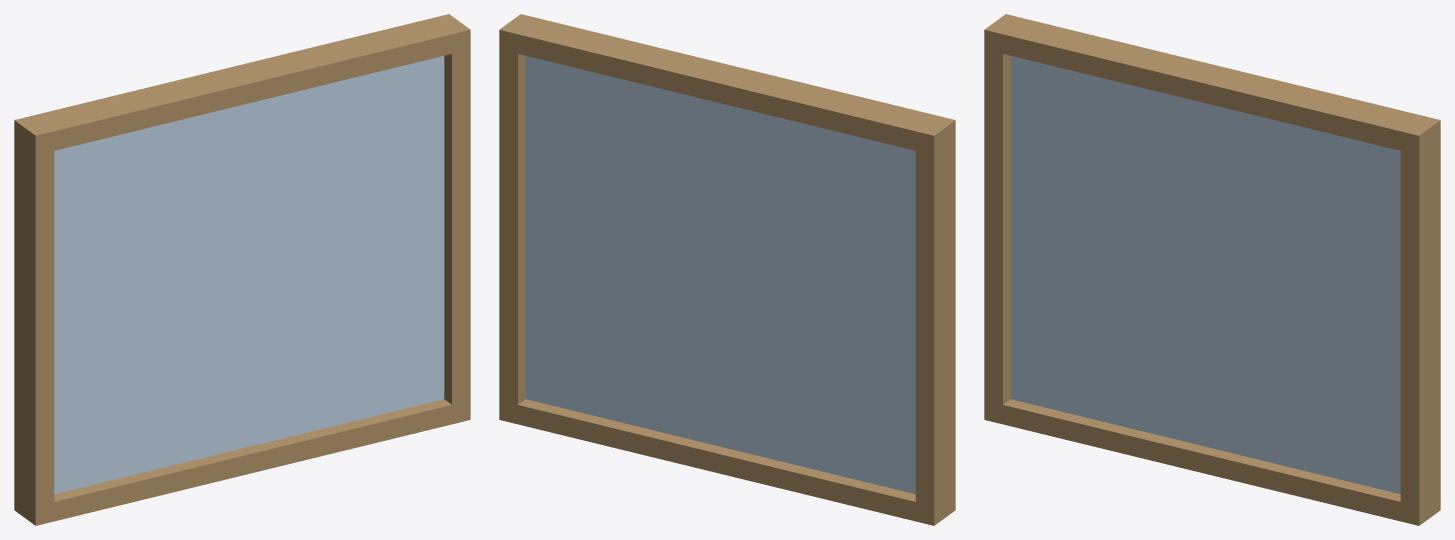
3 renders of one model, left to right at view 1: azimuth 30°, elevation 25°; view 2: azimuth 150°, elevation 25°; view 3: azimuth 330°, elevation 25°, orthographic.
Parts seen in each view (by area): view 1: window_glass, frame; view 2: window_glass, frame; view 3: window_glass, frame.
Part boxes in pixels (x1,y1,x2,y2): window_glass: (54, 56, 444, 494); frame: (14, 14, 470, 525); window_glass: (525, 56, 915, 494); frame: (499, 14, 955, 525); window_glass: (1010, 56, 1400, 494); frame: (984, 14, 1440, 525).
Bounding box in the file's own units: 1.4 × 1.2 × 0.12.
2 materials, 2 textured.
